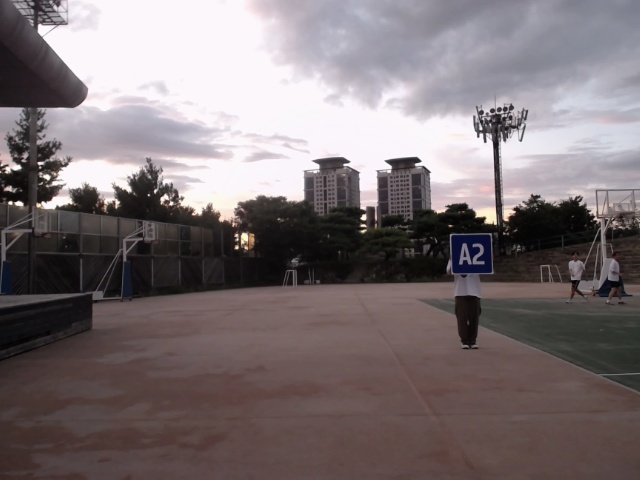delivery_a2: (450, 233, 493, 274)
